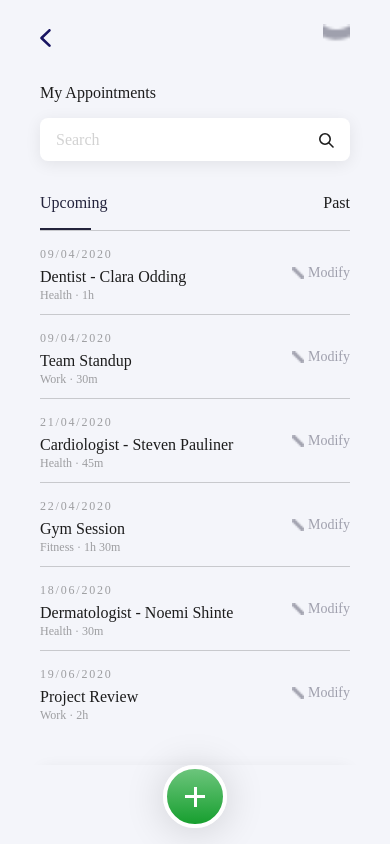
Time Management list screen › opens the calendar route from the header control
The width and height of the screenshot is (390, 844).
Click the button with test id "time-open-calendar" at [62, 38], box [40, 24, 84, 51]
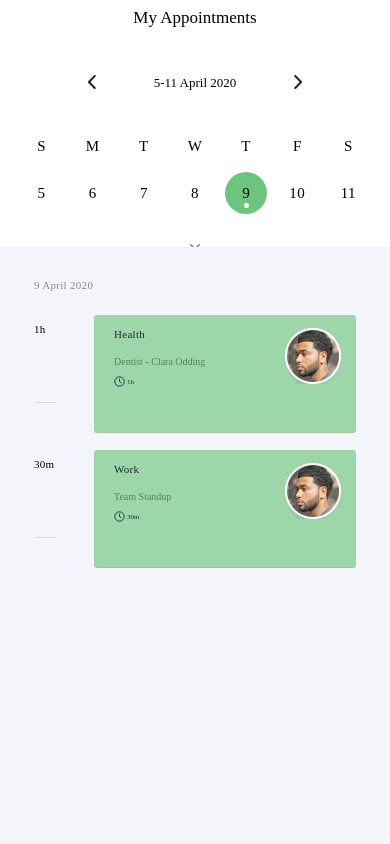
Result: the element with test id "screen-time-calendar" is shown
